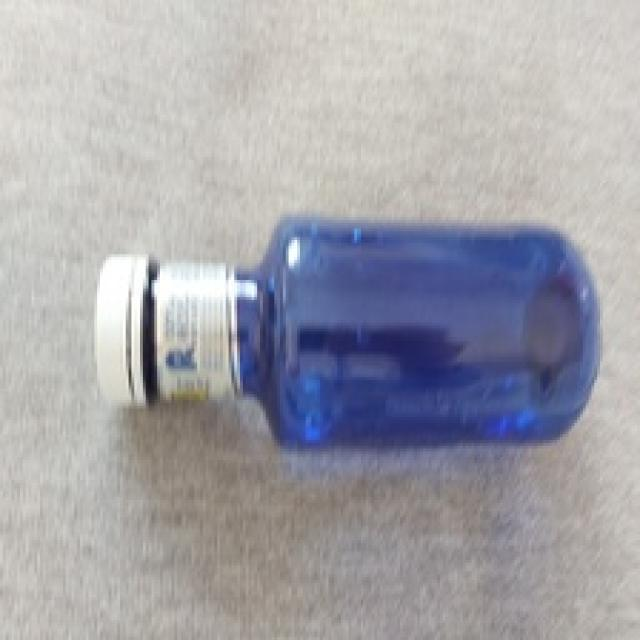Plastic: (103, 220, 600, 446)
